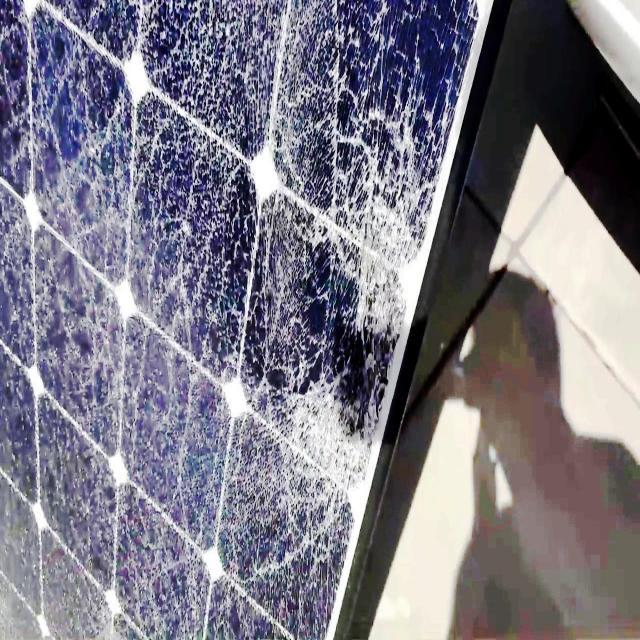faulty: (2, 2, 482, 640)
